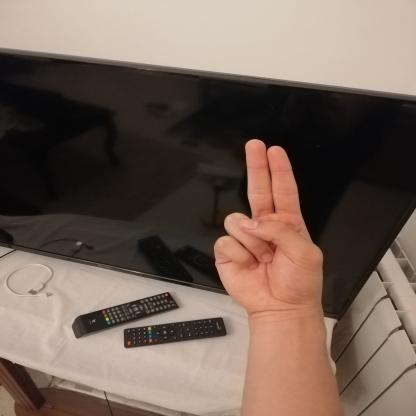TA: (201, 128, 340, 325)
